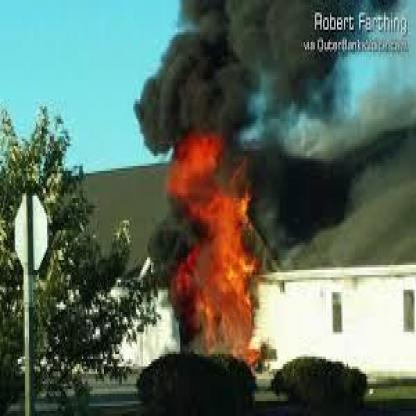fire: (156, 127, 276, 366)
smoke: (130, 1, 361, 154)
